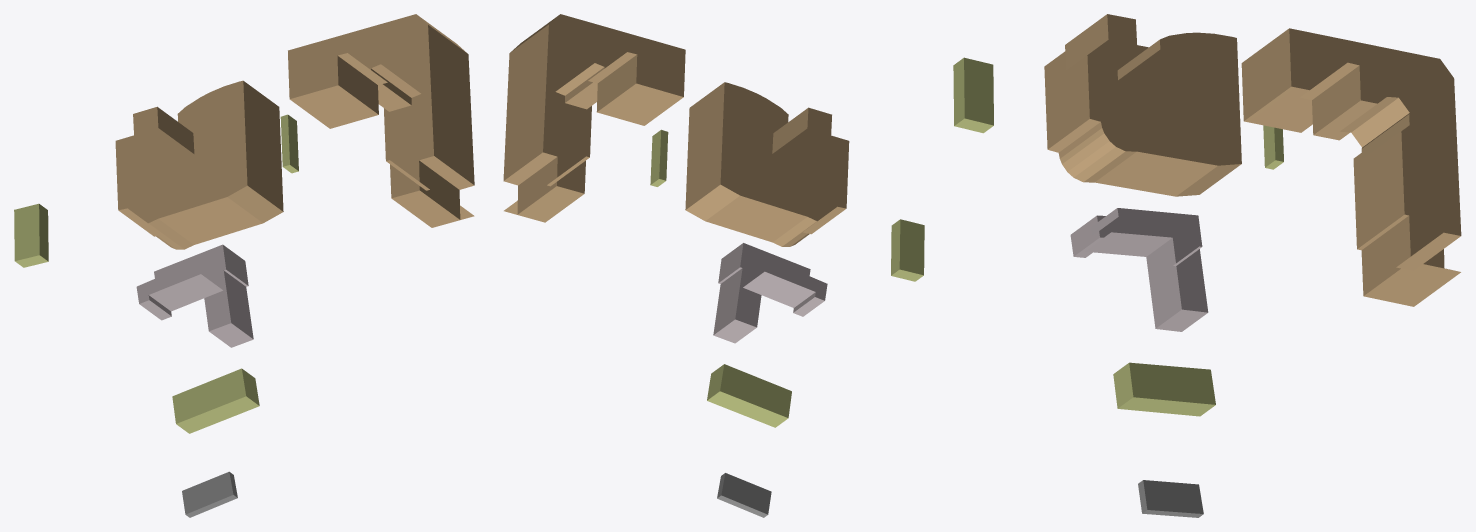
3 renders of one model, left to right at view 1: azimuth 30°, elevation 25°; view 2: azimuth 150°, elevation 25°; view 3: azimuth 330°, elevation 25°, orthographic. The views are drawn at different scales.
Parts seen in each view (by area): view 1: 0_0_3_2_1_0_3; view 2: 0_0_3_2_1_0_3; view 3: 0_0_3_2_1_0_3.
Part boxes in pixels (x1,y1,x2,y2): 0_0_3_2_1_0_3: (14, 14, 474, 517); 0_0_3_2_1_0_3: (503, 14, 924, 517); 0_0_3_2_1_0_3: (953, 14, 1461, 517).
Size of the model in its own units: 162 by 160 by 27.
